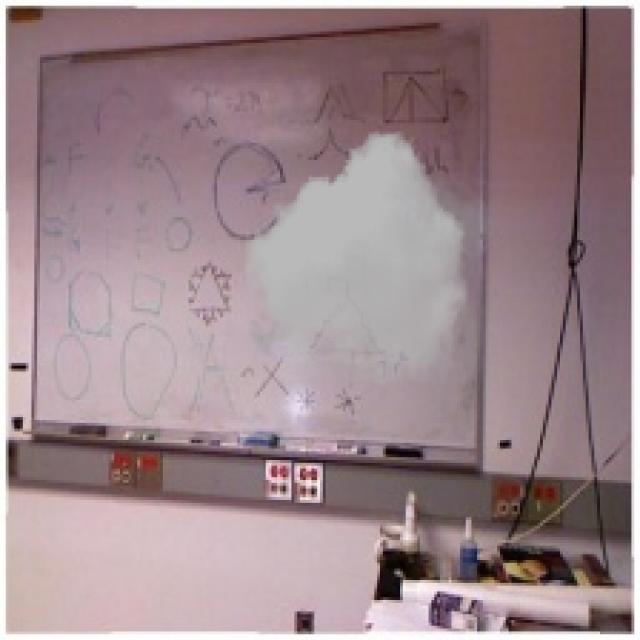smoke: (240, 131, 497, 383)
